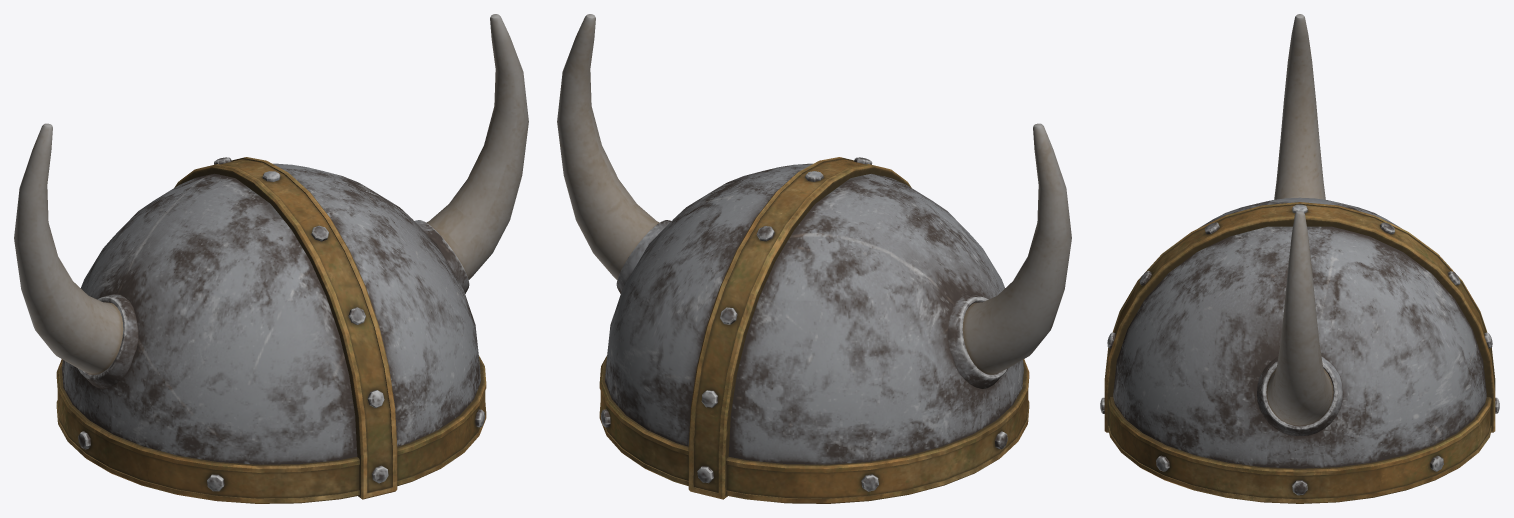
Rendered from viking helmet.fbx.
3 renders of one model, left to right at view 1: azimuth 30°, elevation 25°; view 2: azimuth 150°, elevation 25°; view 3: azimuth 270°, elevation 25°, orthographic. The views are drawn at different scales.
Visible parts, largest first — view 1: Helmet; view 2: Helmet; view 3: Helmet.
Part boxes in pixels (x1,y1,x2,y2): Helmet: (14, 14, 528, 503); Helmet: (557, 14, 1071, 503); Helmet: (1100, 14, 1499, 503).
Bounding box in the file's own units: 281 × 183 × 212.
1 material, 1 textured.
